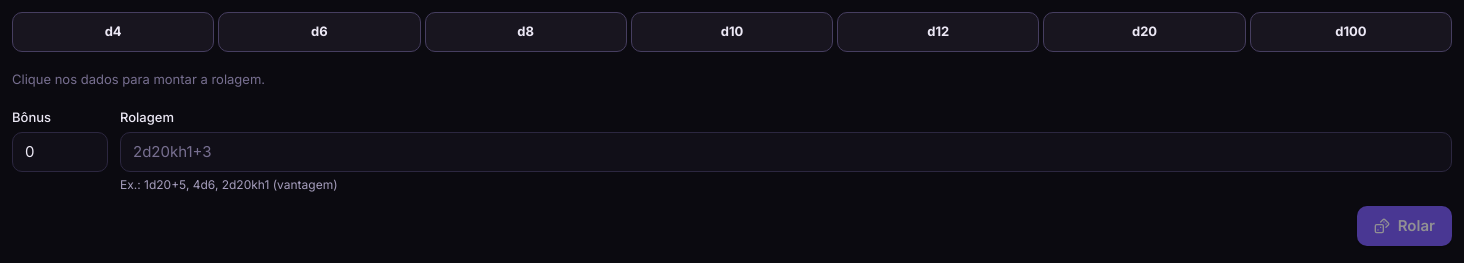
Scenario: DiceBuilder › texto digitado › shouldExplainAnInvalidNotationRightInTheField
Type "1d7" into the field labelled "Rolagem" at (786, 152), box [120,132,1452,172]
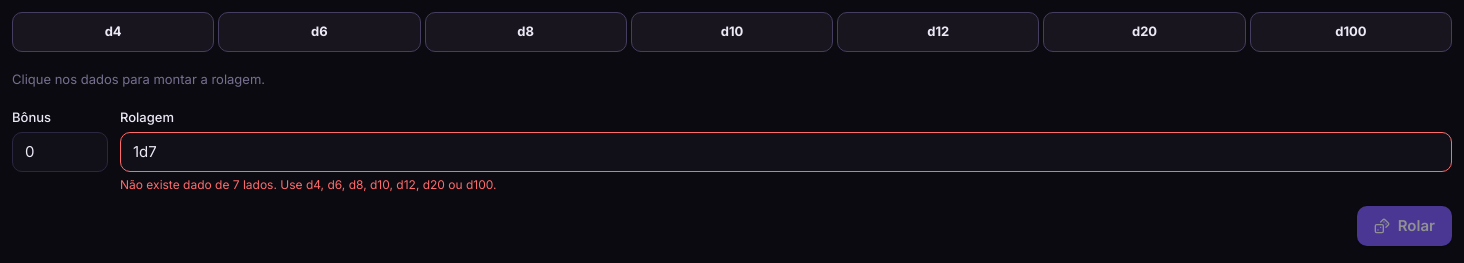
Expected: the button "Rolar" is disabled, [1357,206,1452,246]
Expected: the message shows "Não existe dado de 7 lados", [120,176,496,192]
